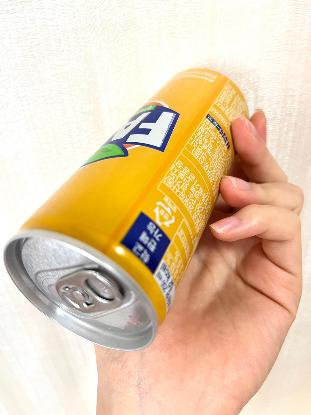Can: (2, 65, 252, 354)
